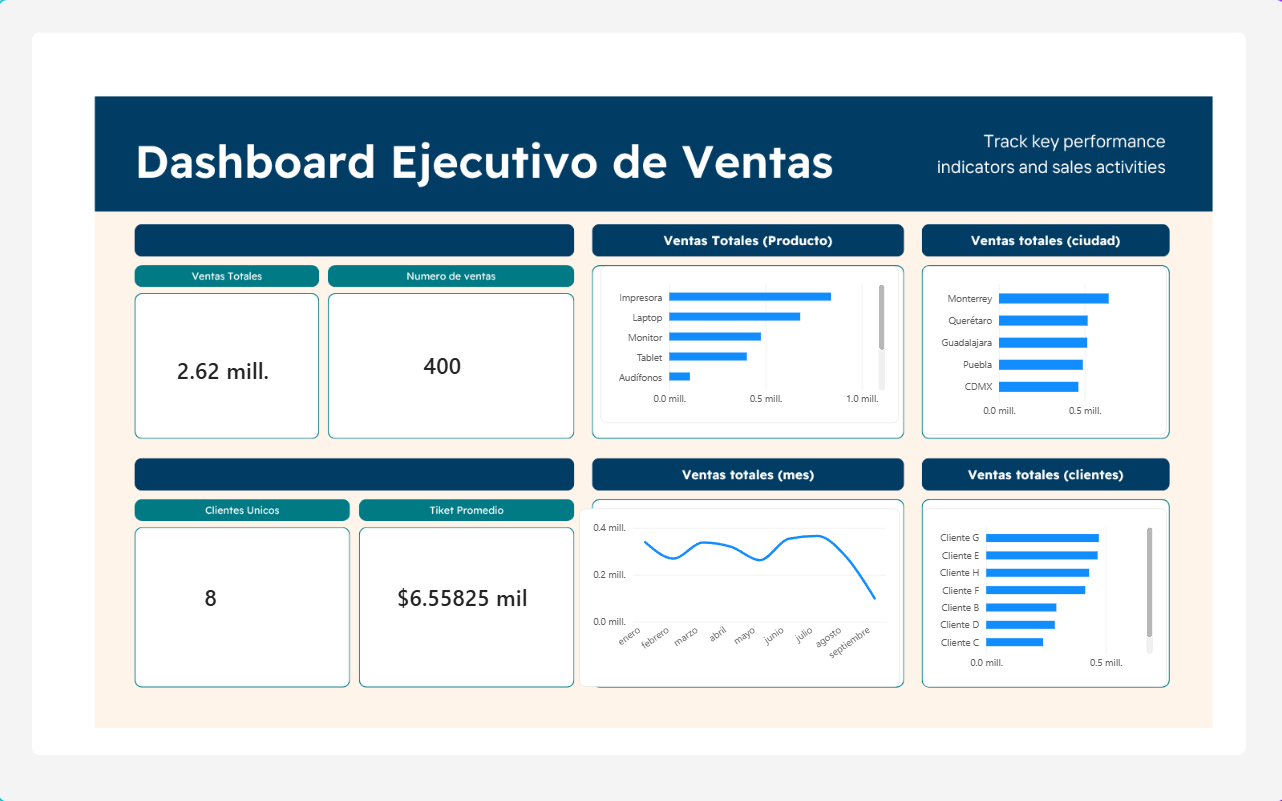

This screenshot's page, from the dashboard's own definition file:
{"tool":"powerbi","page":{"name":"Página 1","canvas":[1920,1080],"ordinal":0},"visuals":[{"type":"lineChart","fields":{"Category":["Ventas.Mes"],"Y":["Ventas.Ventas Totales"]},"box":[880,670,400,222],"z":0},{"type":"cardVisual","fields":{"Data":["Ventas.Ventas Totales"]},"box":[363.3,428.3,160,136.7],"z":2000},{"type":"cardVisual","fields":{"Data":["Ventas.Número de Ventas"]},"box":[670,443.3,95,96.7],"z":3000},{"type":"cardVisual","fields":{"Data":["Ventas.Clientes Únicos"]},"box":[398,738,91.7,86.7],"z":4000},{"type":"cardVisual","fields":{"Data":["Ventas.Ticket Promedio"]},"box":[638,690,218,178],"z":5000},{"type":"barChart","fields":{"Category":["Ventas.Cliente"],"Y":["Ventas.Ventas Totales"]},"box":[1310,670,304,222],"z":6000},{"type":"barChart","fields":{"Category":["Ventas.Ciudad"],"Y":["Ventas.Ventas Totales"]},"box":[1310,368,304,210],"z":7000},{"type":"barChart","fields":{"Category":["Ventas.Producto"],"Y":["Ventas.Ventas Totales"]},"box":[908,368,372,196],"z":7001}]}

Visuals, with their boxes on the page's 1920x1080 design canvas (x1, y1, x2, y2). These are canvas units, not pixel positions in the 1282x801 screenshot, which may show the page scaled, cropped or inside an application window:
lineChart - Ventas.Mes x Ventas.Ventas Totales: [880,670,1280,892]
cardVisual - Ventas.Ventas Totales: [363,428,523,565]
cardVisual - Ventas.Número de Ventas: [670,443,765,540]
cardVisual - Ventas.Clientes Únicos: [398,738,490,825]
cardVisual - Ventas.Ticket Promedio: [638,690,856,868]
barChart - Ventas.Cliente x Ventas.Ventas Totales: [1310,670,1614,892]
barChart - Ventas.Ciudad x Ventas.Ventas Totales: [1310,368,1614,578]
barChart - Ventas.Producto x Ventas.Ventas Totales: [908,368,1280,564]
